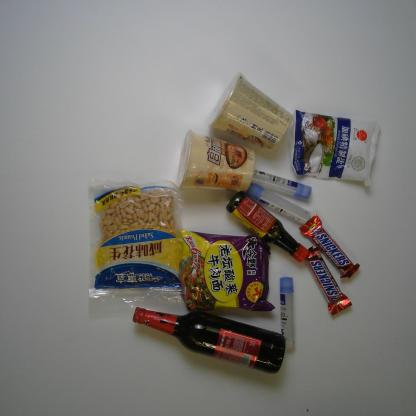Alcohol: (129, 301, 289, 375)
Chocolate: (300, 215, 362, 279), (300, 244, 351, 316)
Dried Fruit: (81, 175, 188, 304)
Instant Noodles: (171, 222, 277, 317), (205, 72, 294, 150), (172, 126, 258, 197)
Seasoner: (288, 108, 383, 186), (227, 187, 307, 263)
Stationery: (243, 181, 313, 230), (245, 166, 313, 200), (278, 269, 296, 349)
